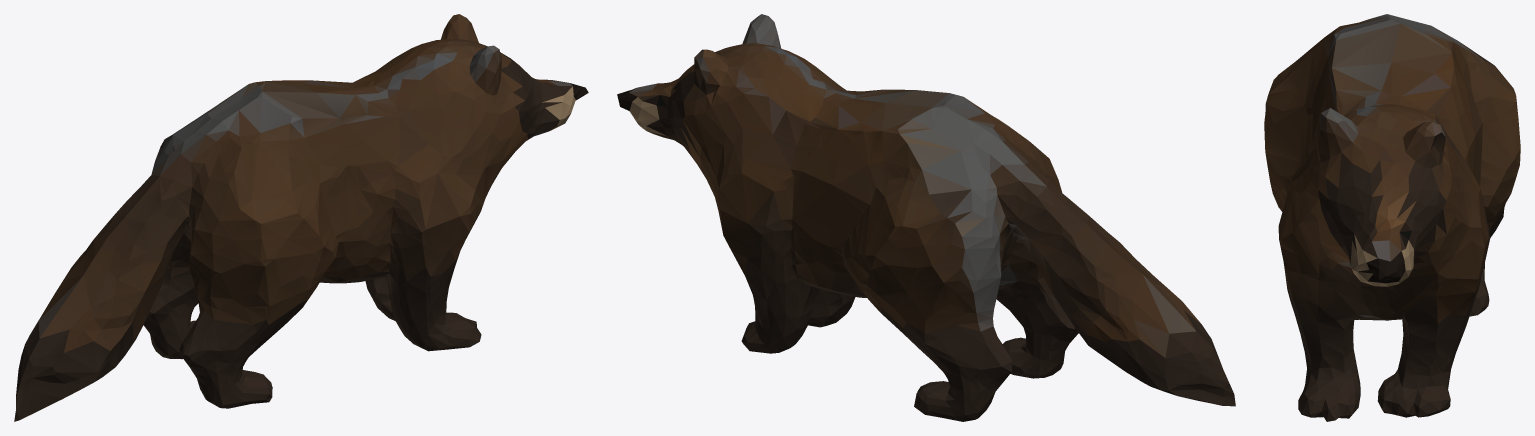
Rendered from tanuki.glb.
3 views of the same model, side by side, from view 1: azimuth 30°, elevation 25°; view 2: azimuth 150°, elevation 25°; view 3: azimuth 270°, elevation 25° (orthographic). The views are drawn at different scales.
Parts seen in each view (by area): view 1: body; view 2: body; view 3: body.
Part boxes in pixels (box(x1,y1,x2,y2)): body: box(14, 14, 588, 421); body: box(617, 14, 1235, 421); body: box(1264, 14, 1520, 421).
Size of the model in its own units: 0.8 by 0.3733 by 0.2659.
